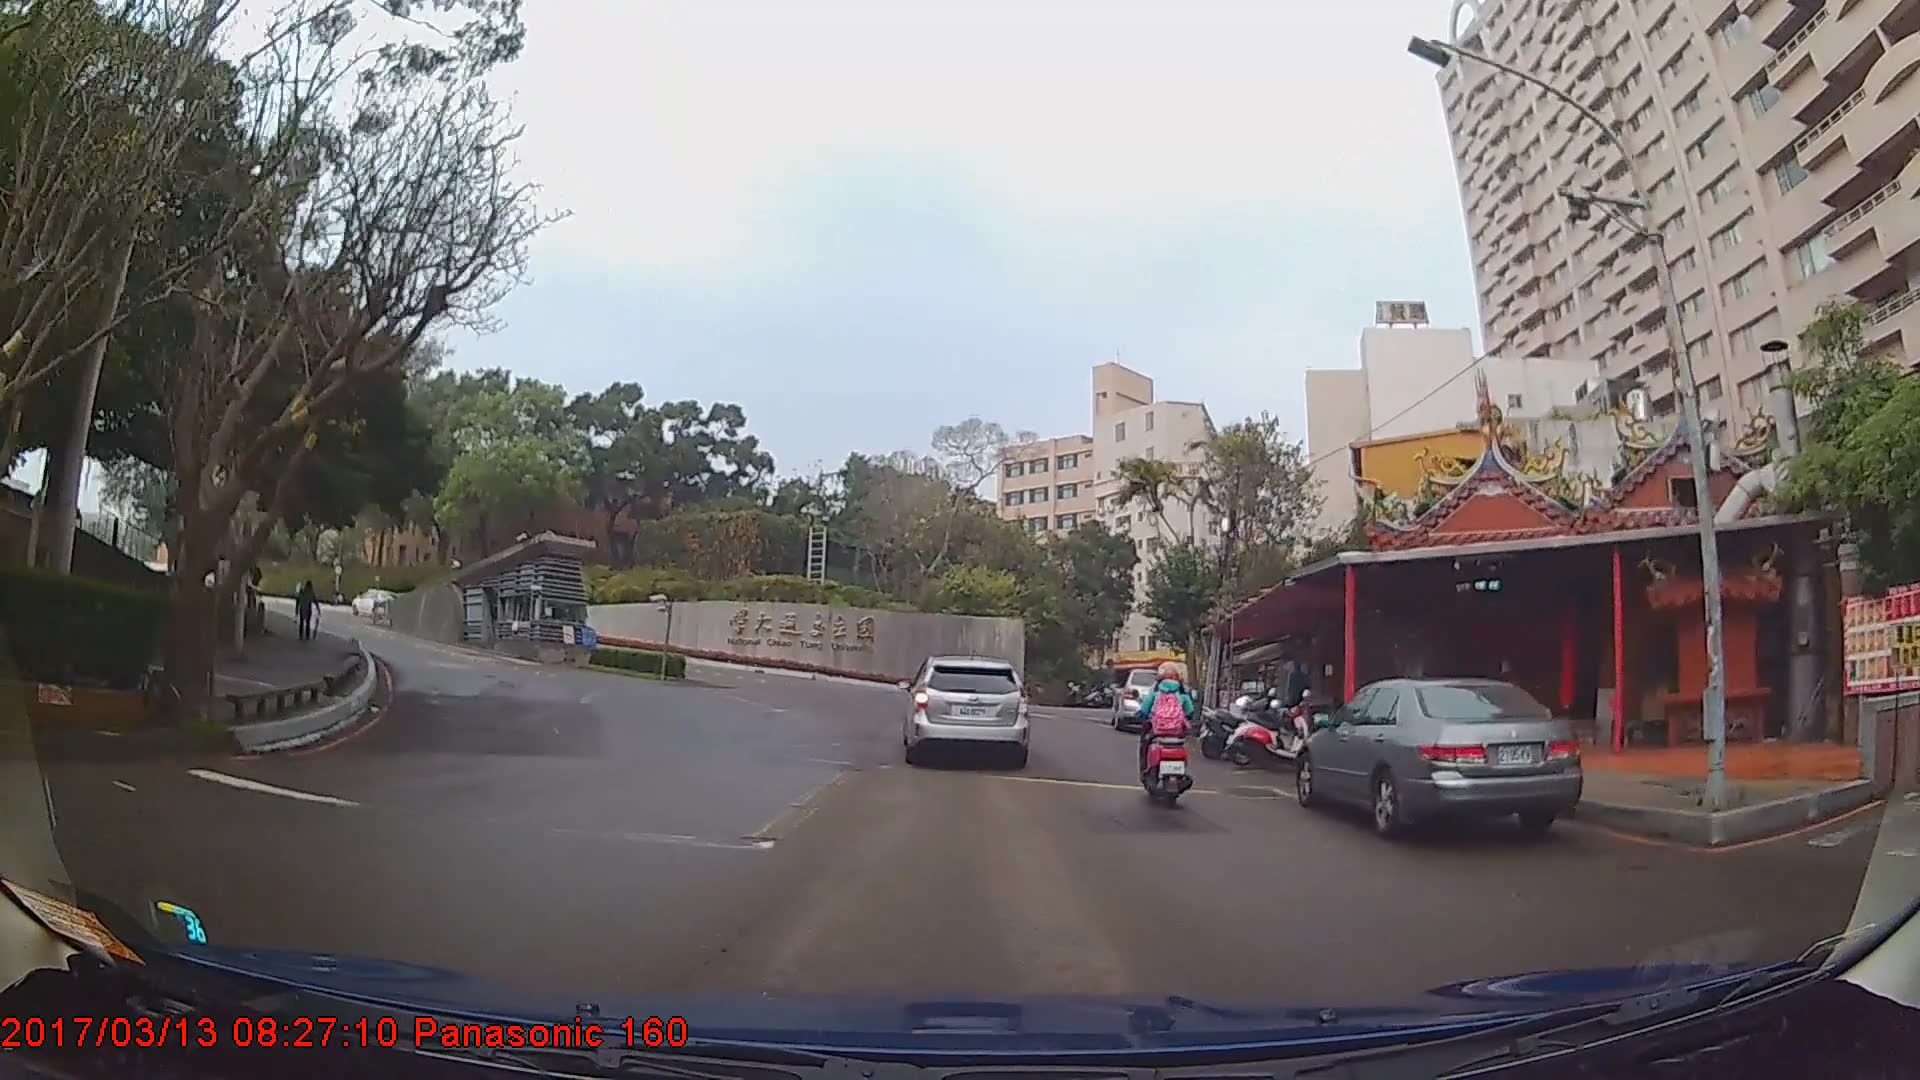pedestrian: (1286, 658, 1315, 734), (298, 583, 325, 644)
rider: (1135, 656, 1203, 812)
vehicle: (1296, 677, 1584, 839), (902, 650, 1029, 764), (1110, 667, 1186, 732), (349, 585, 401, 612)
